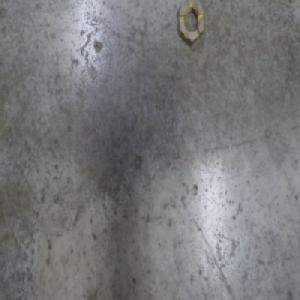Nut: (178, 0, 206, 46)
